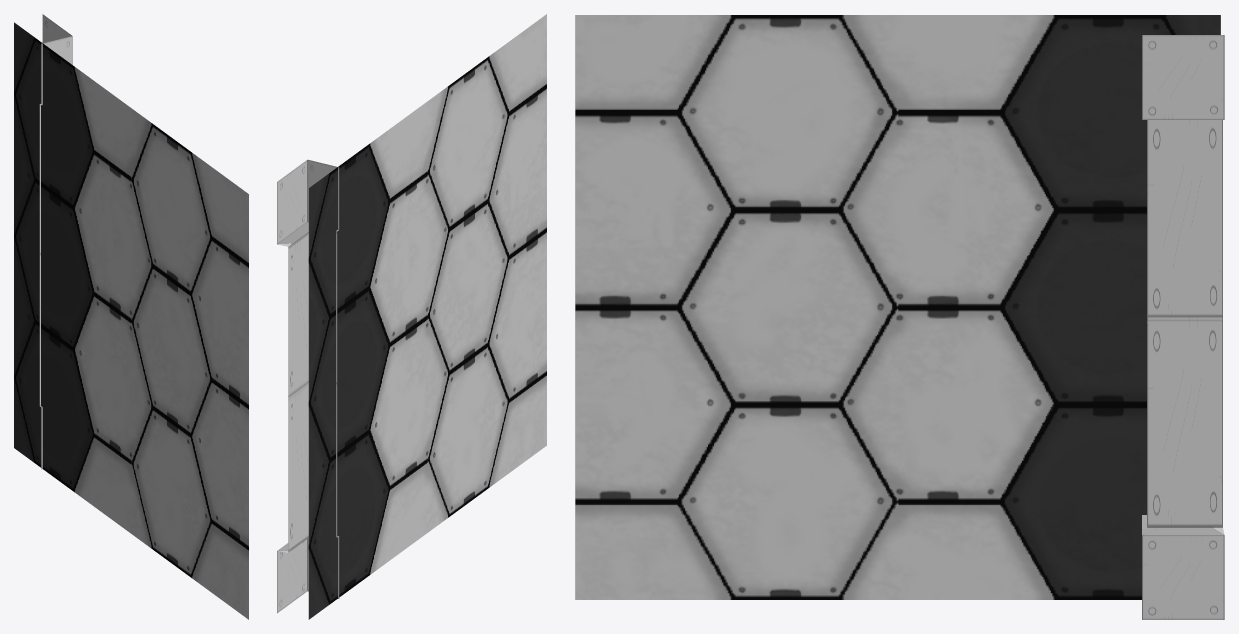
File: Wall_Right.fbx
3 renders of one model, left to right at view 1: azimuth 30°, elevation 25°; view 2: azimuth 150°, elevation 25°; view 3: azimuth 270°, elevation 25°, orthographic. The views are drawn at different scales.
Visible parts, largest first — view 1: pPlane129; view 2: pPlane129; view 3: pPlane129.
Boxes of the visible parts, left/top/right/bottom form: pPlane129: left=14, top=14, right=248, bottom=619; pPlane129: left=277, top=14, right=546, bottom=619; pPlane129: left=575, top=15, right=1224, bottom=619.
Bounding box in the file's own units: 0.1534 × 2 × 2.01.
